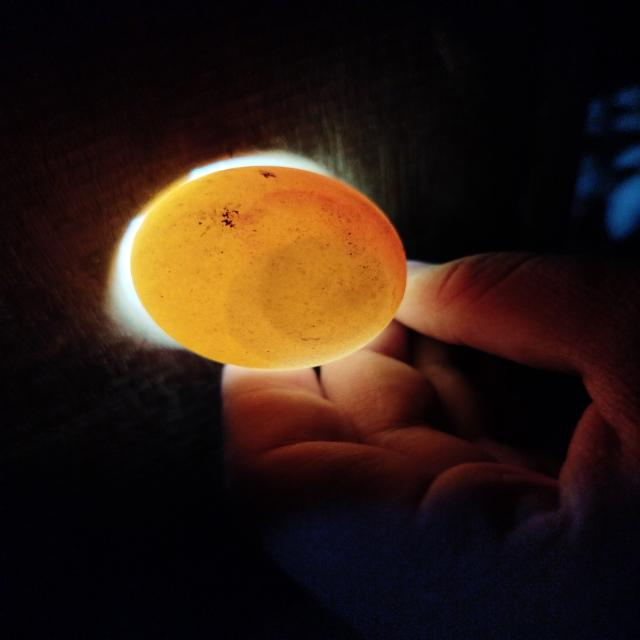Camara de Ar: (226, 235, 396, 360)
